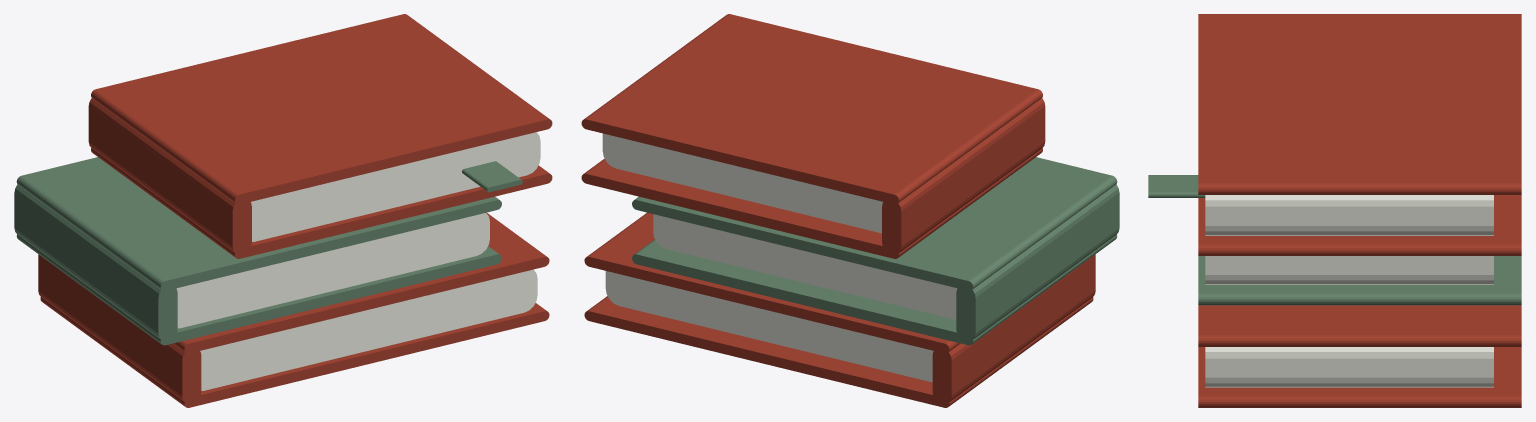
Rendered from books.glb.
3 views of the same model, side by side, from view 1: azimuth 30°, elevation 25°; view 2: azimuth 150°, elevation 25°; view 3: azimuth 270°, elevation 25° (orthographic). The views are drawn at different scales.
Visible parts, largest first — view 1: cover 2 0.175, cover 1 0.175, pages 0, pages 1, pages 2, spine 2, spine 1, spine 0, cover 0 0.175, cover 0 0, cover 1 0, cover 2 0 (+1 smaller); view 2: cover 2 0.175, cover 1 0.175, pages 0, pages 1, pages 2, cover 0 0, spine 1, cover 1 0, spine 2, cover 2 0, spine 0, cover 0 0.175; view 3: cover 2 0.175, cover 0 0.175, pages 0, pages 2, pages 1, cover 0 0, cover 2 0, cover 1 0, ribbon.
Boxes of the visible parts, left/top/right/bottom form: cover 2 0.175: left=91, top=14, right=552, bottom=204; cover 1 0.175: left=16, top=157, right=501, bottom=290; pages 0: left=200, top=269, right=537, bottom=390; pages 1: left=176, top=213, right=489, bottom=328; pages 2: left=251, top=132, right=540, bottom=241; spine 2: left=88, top=98, right=251, bottom=254; spine 1: left=14, top=184, right=177, bottom=341; spine 0: left=38, top=254, right=201, bottom=403; cover 0 0.175: left=173, top=212, right=549, bottom=353; cover 0 0: left=40, top=297, right=549, bottom=407; cover 1 0: left=16, top=234, right=501, bottom=345; cover 2 0: left=91, top=148, right=552, bottom=258; cover 2 0.175: left=581, top=14, right=1042, bottom=204; cover 1 0.175: left=632, top=157, right=1117, bottom=290; pages 0: left=605, top=271, right=933, bottom=382; pages 1: left=653, top=214, right=957, bottom=319; pages 2: left=602, top=133, right=882, bottom=233; cover 0 0: left=584, top=296, right=1093, bottom=407; spine 1: left=956, top=184, right=1119, bottom=341; cover 1 0: left=632, top=234, right=1117, bottom=345; spine 2: left=882, top=98, right=1045, bottom=254; cover 2 0: left=581, top=148, right=1042, bottom=258; spine 0: left=932, top=254, right=1095, bottom=403; cover 0 0.175: left=584, top=212, right=960, bottom=353; cover 2 0.175: left=1198, top=14, right=1521, bottom=194; cover 0 0.175: left=1198, top=305, right=1521, bottom=346; pages 0: left=1205, top=347, right=1493, bottom=387; pages 2: left=1205, top=195, right=1493, bottom=235; pages 1: left=1205, top=256, right=1493, bottom=284; cover 0 0: left=1198, top=347, right=1521, bottom=407; cover 2 0: left=1198, top=195, right=1521, bottom=255; cover 1 0: left=1198, top=256, right=1521, bottom=305; ribbon: left=1148, top=175, right=1205, bottom=197.
Bounding box in the file's own units: 1.33 × 0.647 × 0.97.
